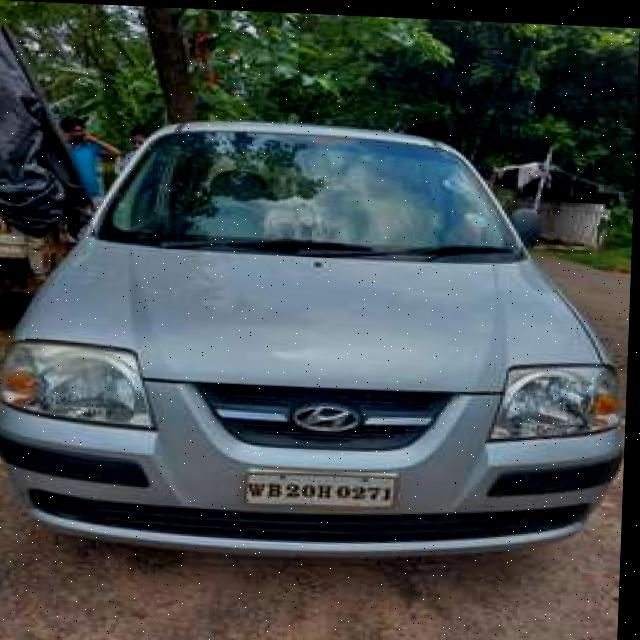plate: (248, 470, 400, 504)
